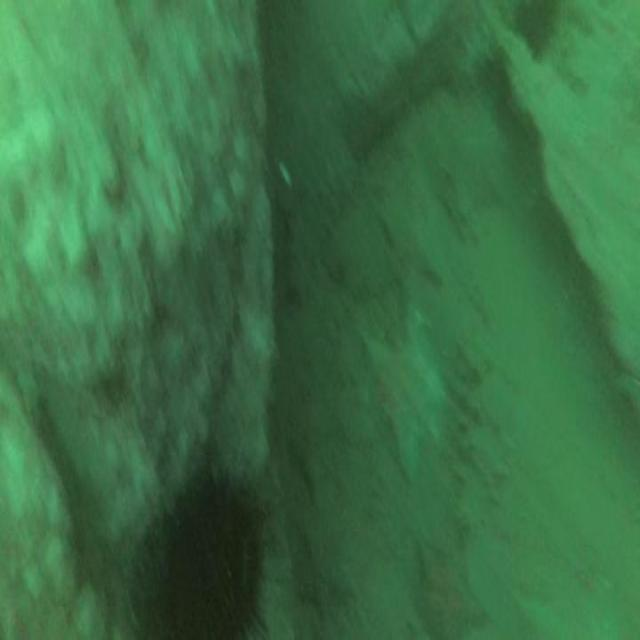echinus: (142, 441, 291, 640)
starfish: (362, 317, 453, 483)
